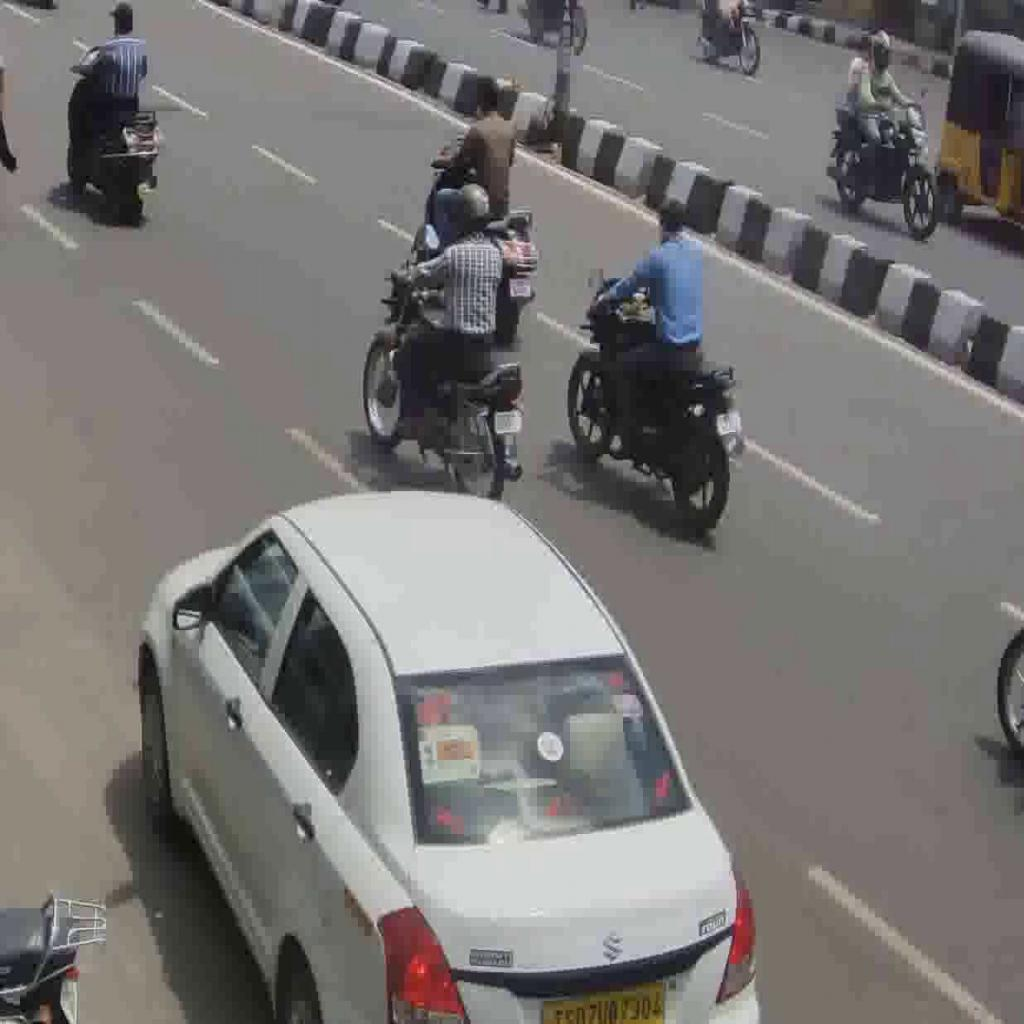helmet: (566, 274, 748, 538), (362, 269, 527, 501), (64, 50, 161, 230)
